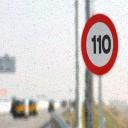speed_limit_110: (82, 12, 118, 74)
